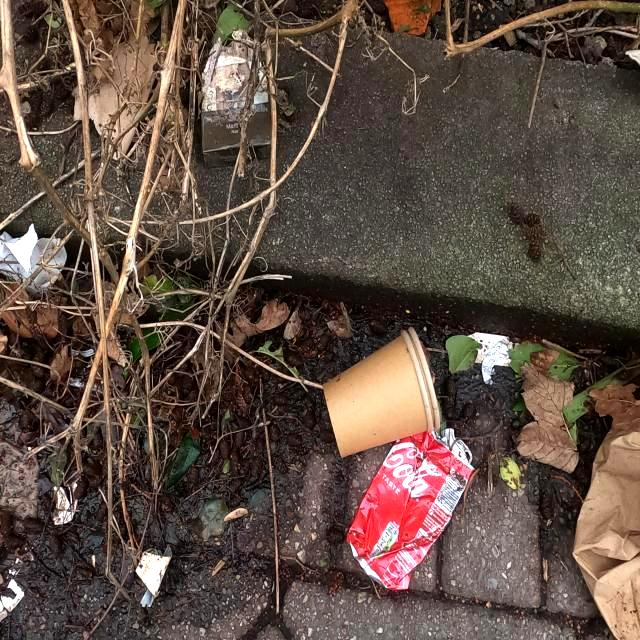Coffee Cup: (321, 322, 443, 460)
Metal: (344, 423, 482, 594)
Paper: (199, 41, 273, 170)
